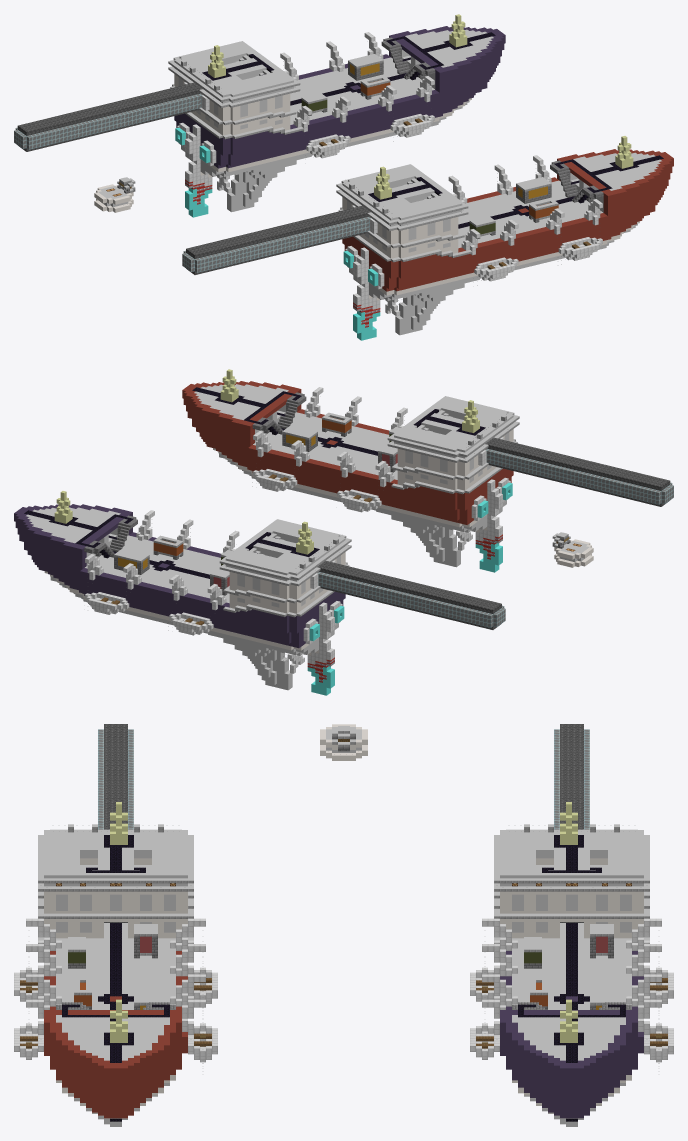
Rendered from minecraft.obj.
The picture shows the model from 3 angles, top to bottom: view 1: azimuth 30°, elevation 25°; view 2: azimuth 150°, elevation 25°; view 3: azimuth 270°, elevation 25°; orthographic projection. The views are drawn at different scales.
Bounding box in the file's own units: 127 × 42 × 110.
